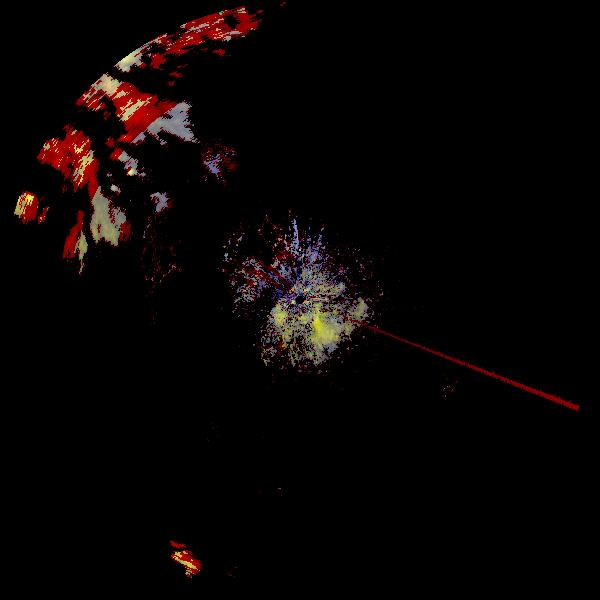roost: (405, 362, 537, 494), (244, 302, 364, 422)
